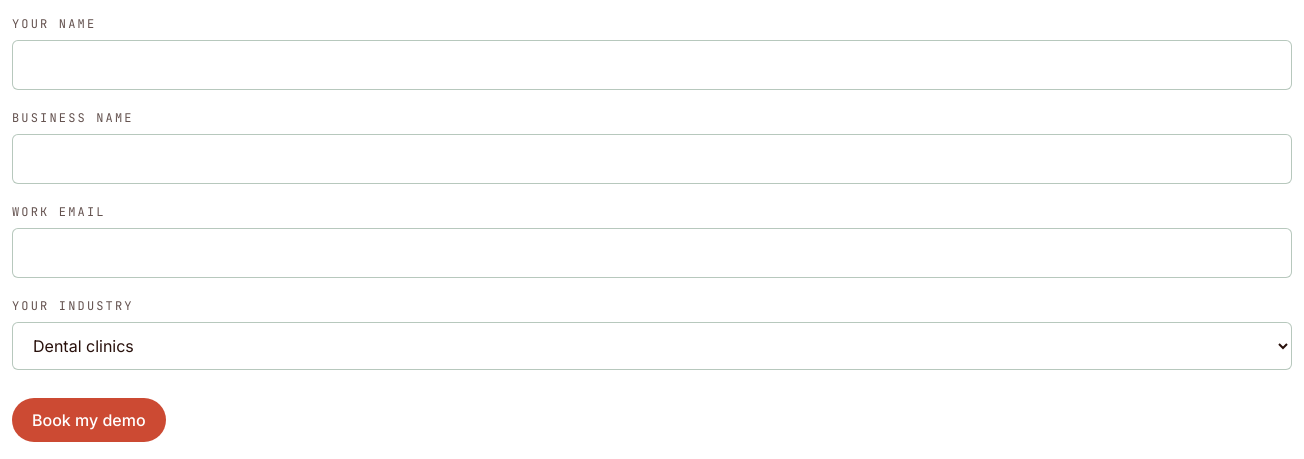
it: DemoForm › swaps to confirmation message on submit
Type "Test User" into the field labelled "Your name" at x=652, y=65, box [12,40,1292,90]
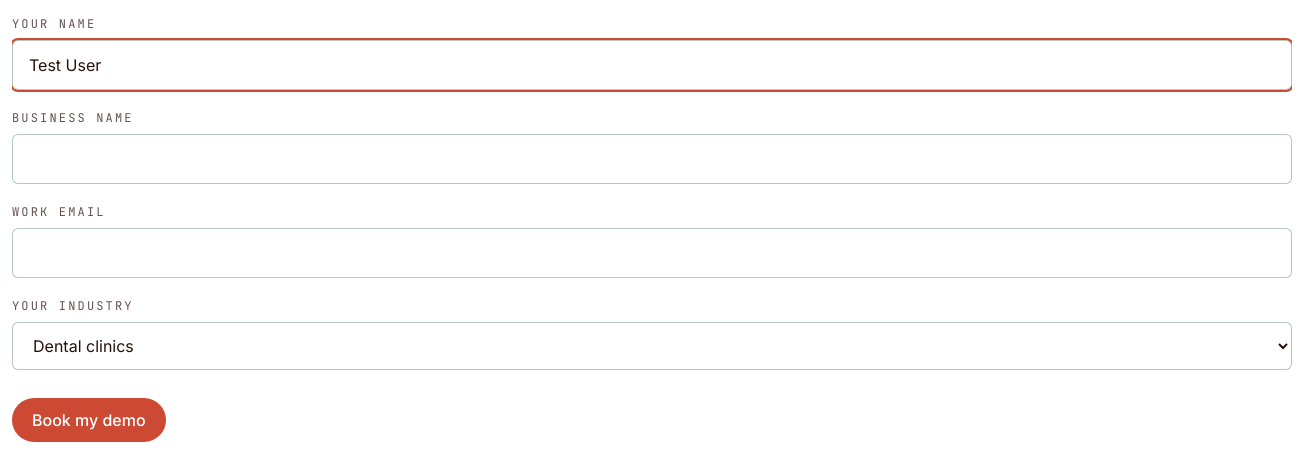
Type "Test Co" into the field labelled "Business name" at x=652, y=159, box [12,134,1292,184]
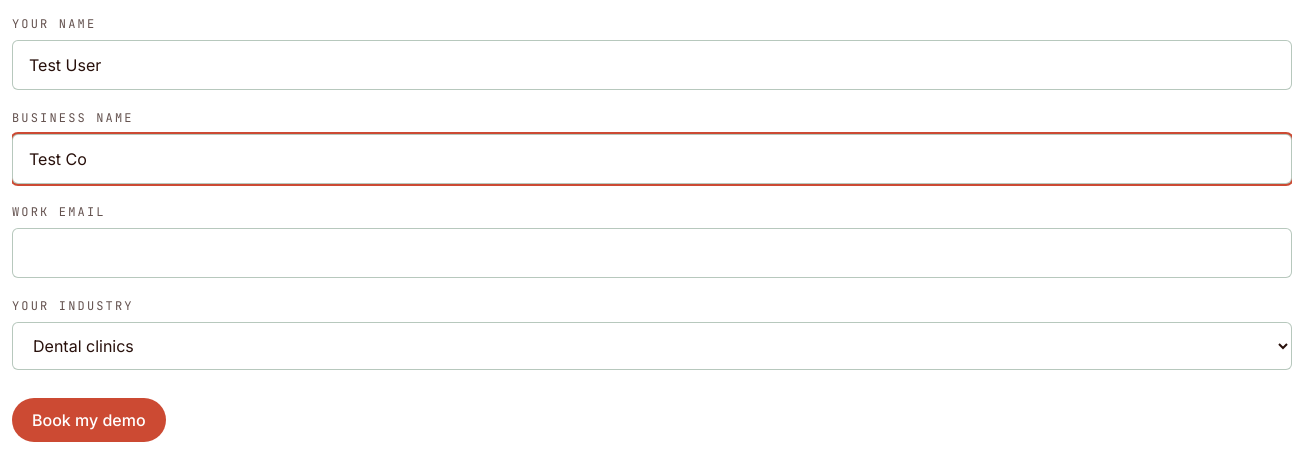
Type "test@example.com" into the field labelled "Work email" at x=652, y=253, box [12,228,1292,278]
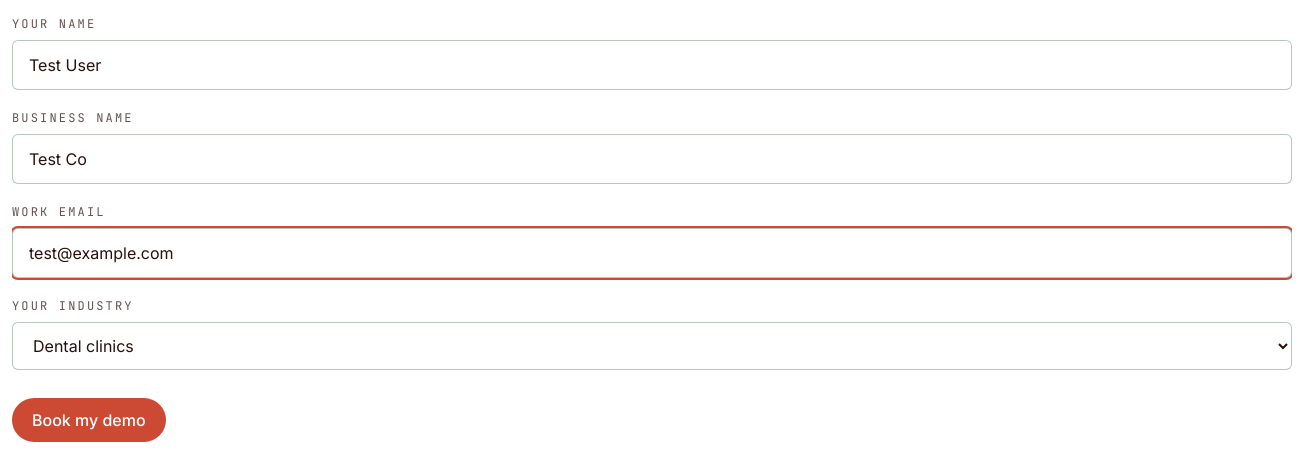
Click the button "Book my demo" at x=89, y=420, box [12,398,166,442]
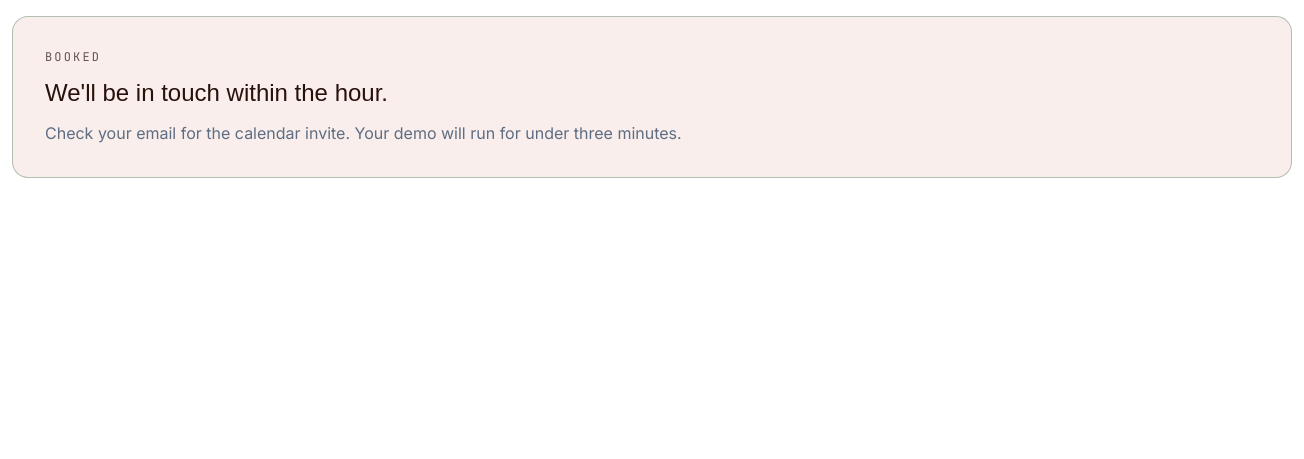
Expected: the text "We'll be in touch within the hour." is shown, [45,79,388,106]
